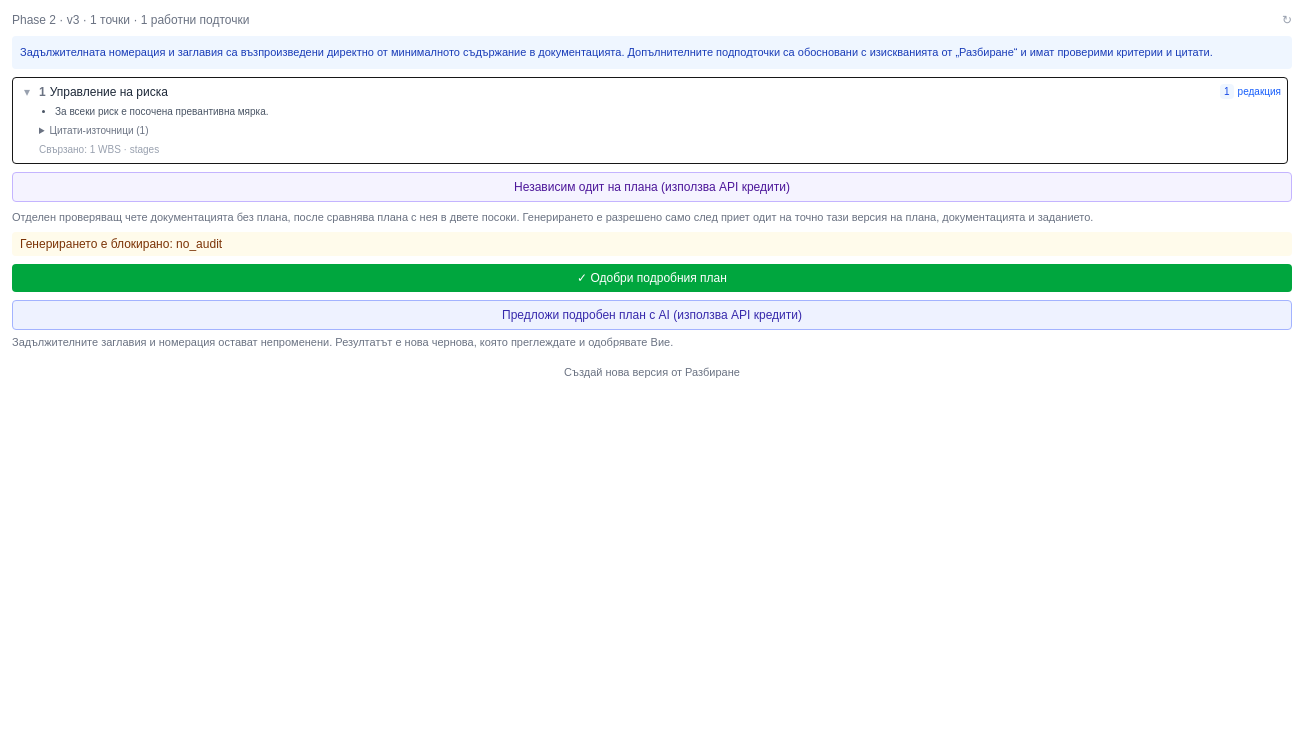
Test: OutlinePanel Phase 2 › keeps the editor open with the input when saving fails (K-13)
The width and height of the screenshot is (1304, 732).
Click the button "редакция": (1259, 91) [1238,84,1281,98]
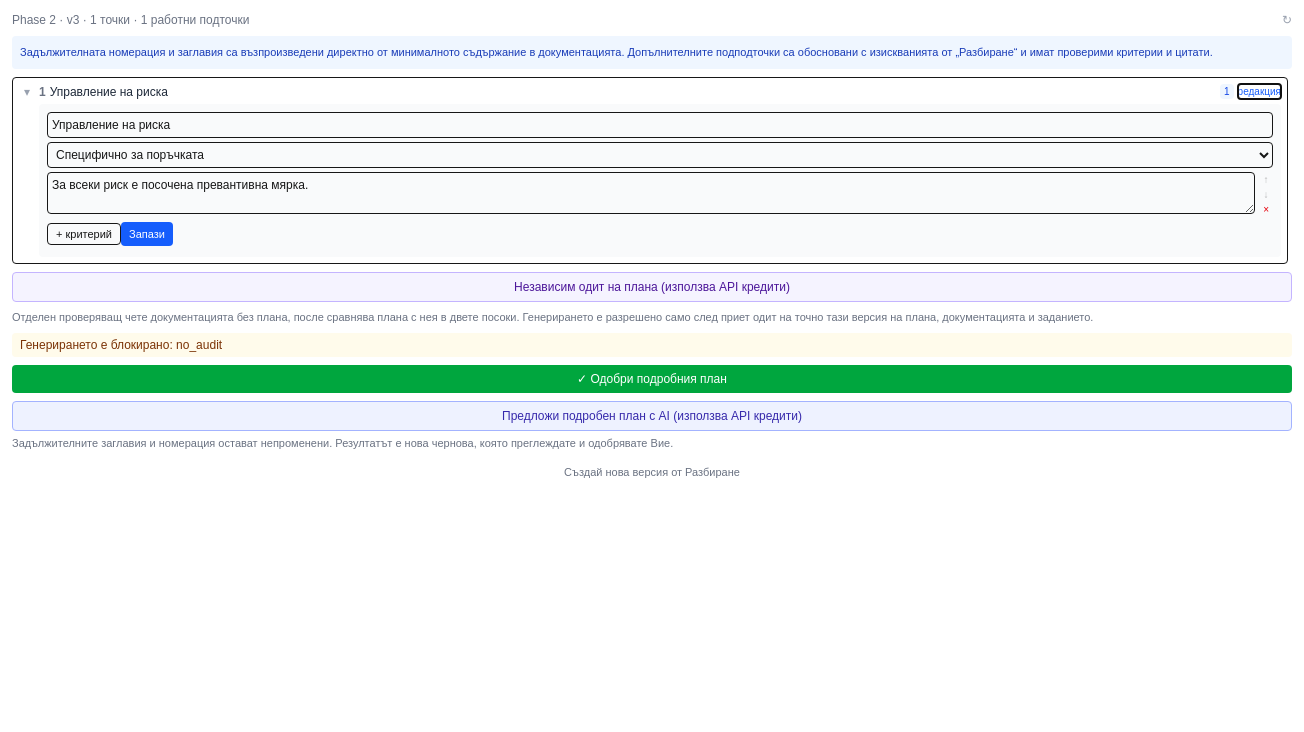
Replace the text in the text box named "Критерий 1" with "Моят текст": (651, 192) [47,172,1255,214]
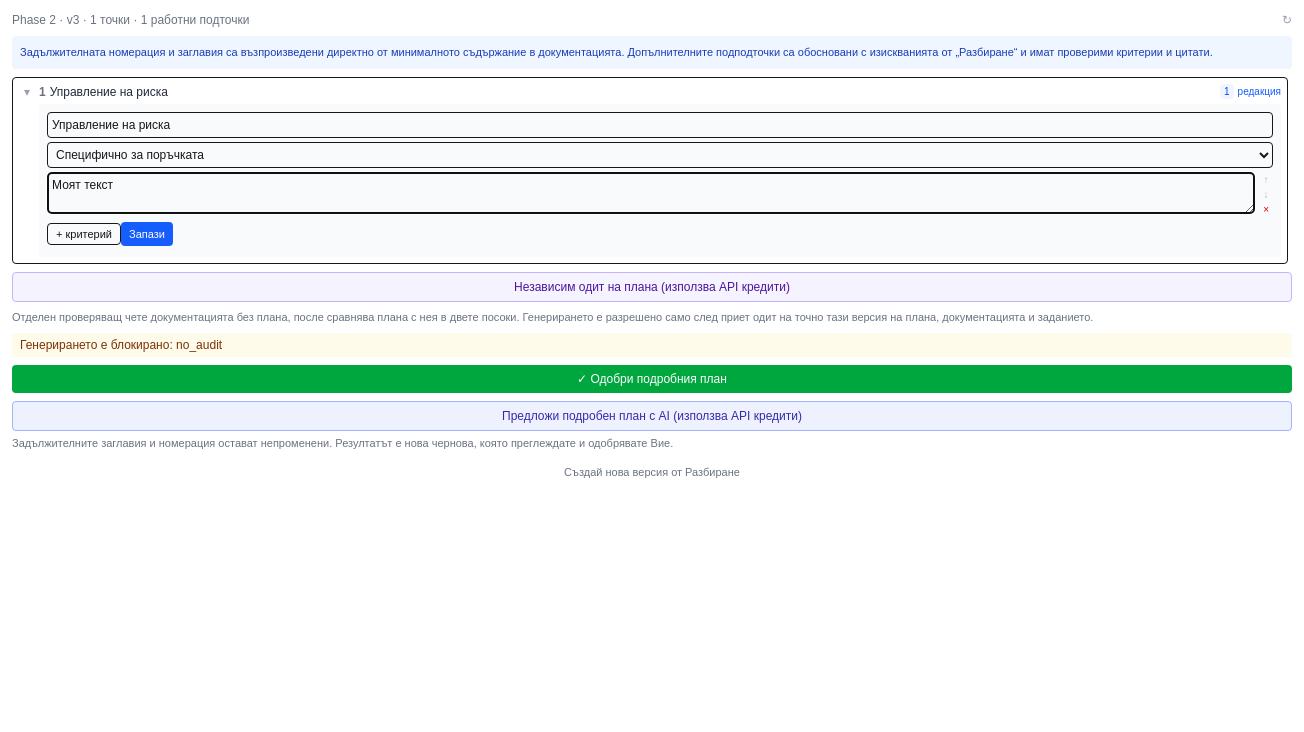
Click the button "Запази": (147, 234) [121,222,173,246]
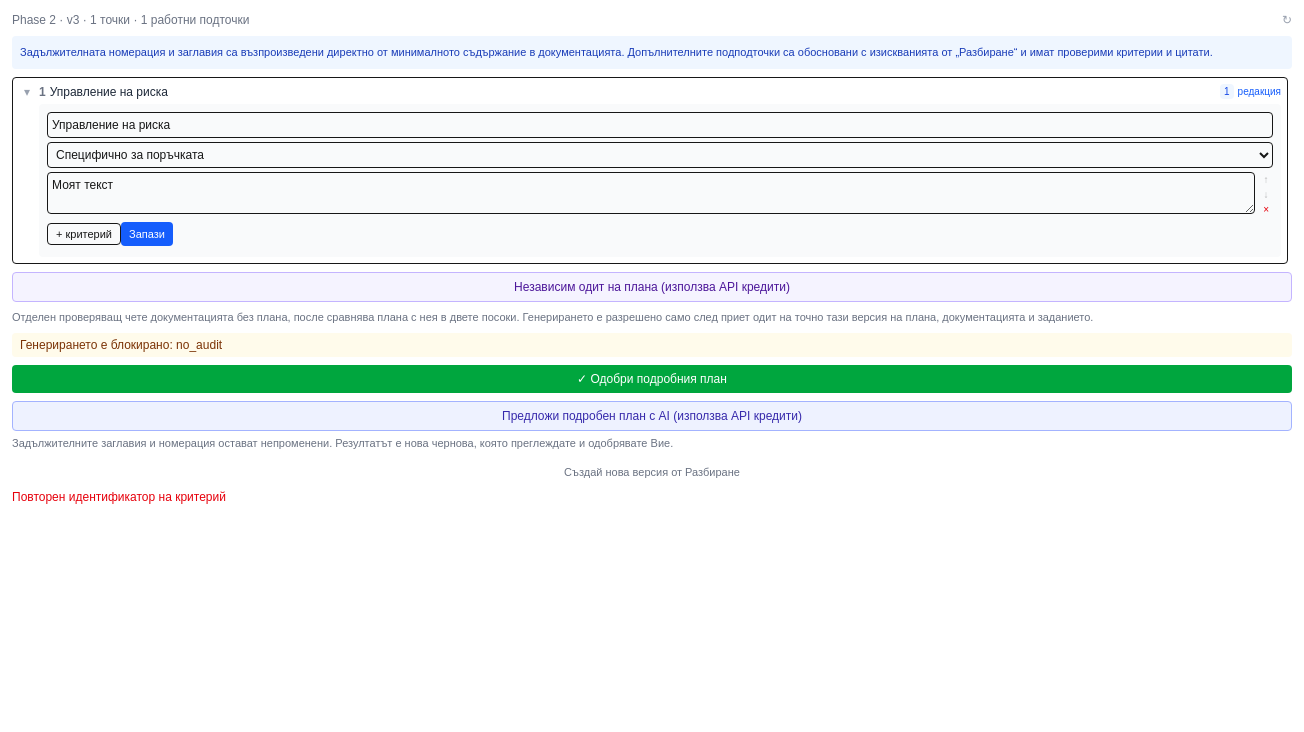
Expected: the text "Повторен идентификатор на критерий" is shown, [12,490,226,504]
